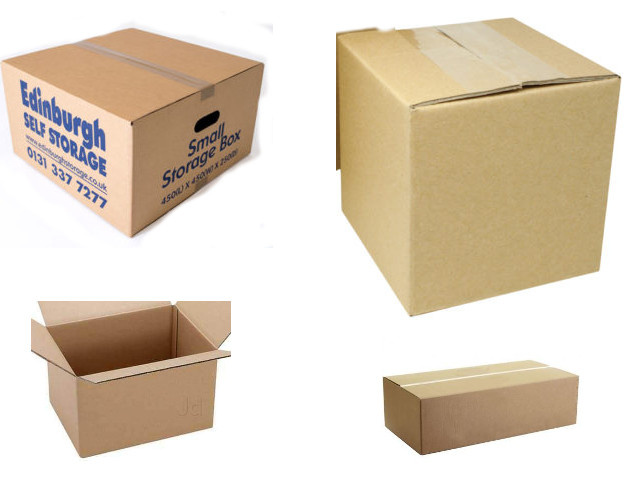cardboard: (339, 20, 621, 314), (4, 29, 260, 235), (47, 310, 216, 456), (385, 361, 578, 454)
